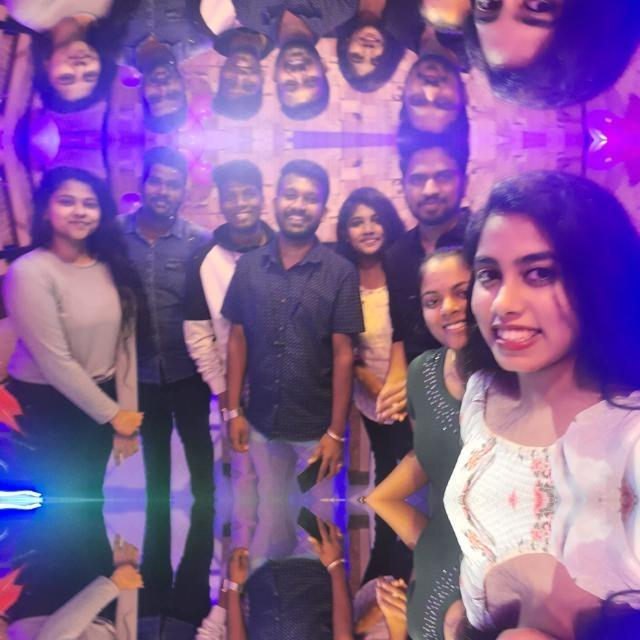person: (464, 166, 640, 492), (22, 169, 124, 445), (464, 508, 640, 640), (464, 0, 640, 114), (115, 146, 208, 360), (264, 157, 344, 399), (338, 189, 418, 383), (405, 248, 477, 444), (114, 0, 207, 134), (211, 165, 269, 367), (22, 0, 123, 111), (264, 0, 343, 123), (22, 555, 123, 640), (400, 142, 468, 248), (400, 32, 468, 138), (338, 0, 417, 91), (211, 0, 269, 115), (405, 555, 477, 640), (264, 601, 343, 640), (405, 0, 477, 32), (338, 617, 417, 640), (211, 633, 269, 640), (114, 639, 207, 640)
